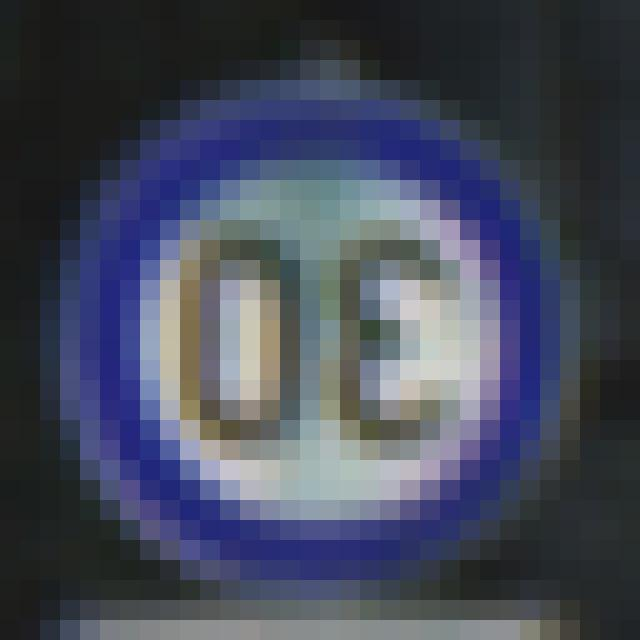SPEED LIMIT 30: (82, 96, 546, 570)
